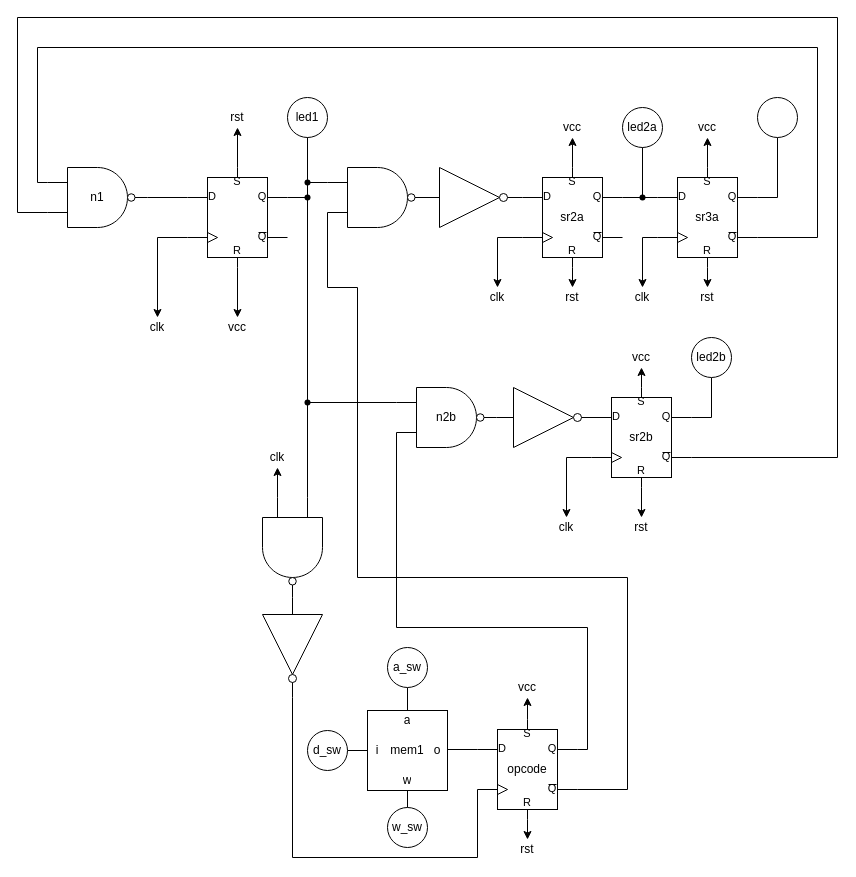
Image size: 856x877. Some labels were removed from this diagram. The centre of each missing label's shape, as x and y in pixels:
"led3a" belongs at point 777,117.
"n2a" belongs at point 377,197.
"n2a_i" belongs at point 472,197.
"n2b_i" belongs at point 546,417.
"n_op" belongs at point 292,547.
"n_op_i" belongs at point 292,647.
"sr1" belongs at point 237,217.
